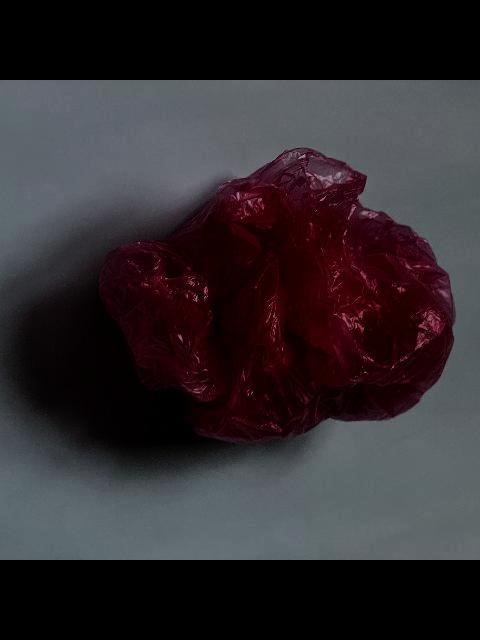plasticbag: (95, 146, 456, 446)
